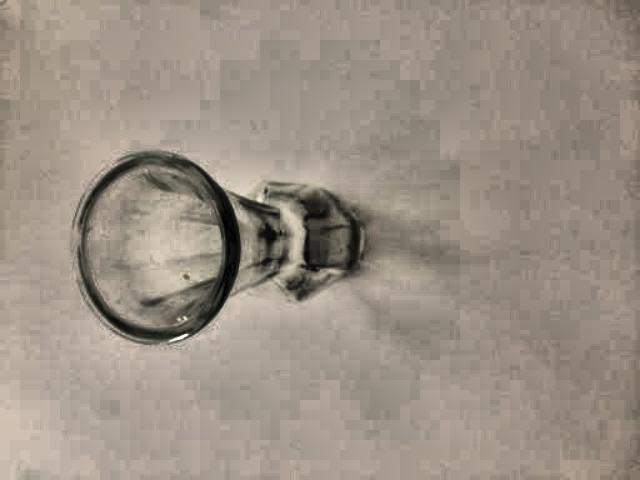Almennt: (34, 139, 398, 361)
